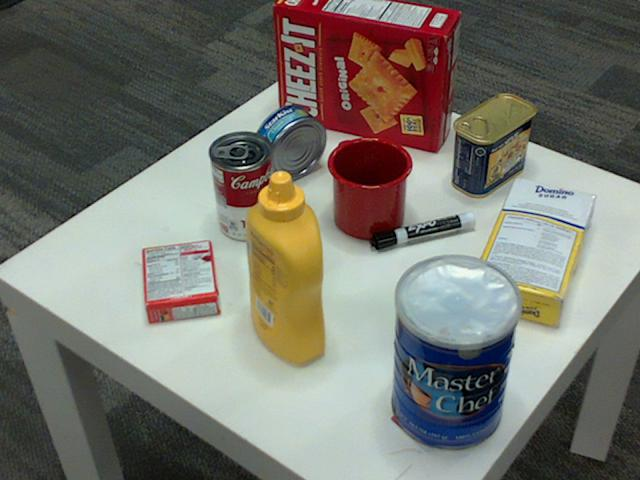cracker_box: (275, 0, 460, 151)
gelatin_box: (138, 238, 216, 322)
large_marker: (370, 215, 476, 249)
master_chef_can: (392, 256, 524, 452)
mug: (325, 135, 411, 238)
mustard_bottle: (245, 172, 323, 364)
potted_meat_can: (451, 95, 534, 198)
sugar_box: (467, 177, 594, 329)
tomato_soup_can: (208, 131, 276, 241)
tuna_fish_can: (251, 104, 325, 180)
